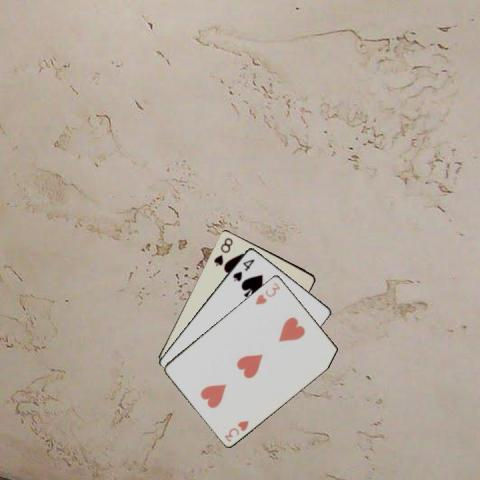3h: (252, 279, 281, 306), (221, 417, 250, 443)
4s: (230, 256, 256, 283)
8s: (211, 234, 234, 267)
